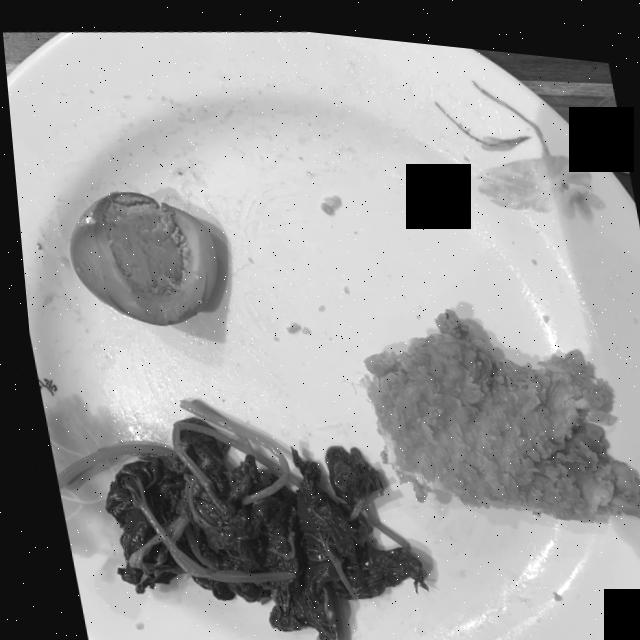coin: (587, 81, 627, 160)
fried chicken cutlet: (358, 300, 640, 509)
soy egg: (65, 189, 213, 322)
sweet potato leaves: (48, 397, 415, 640)
